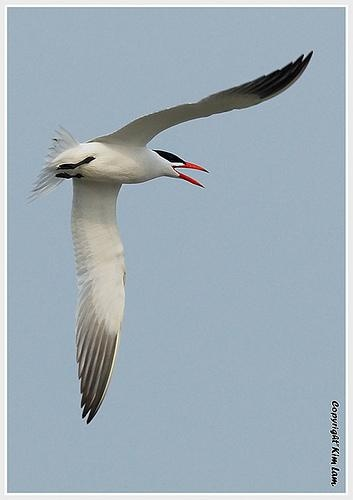bird: (30, 46, 318, 424)
